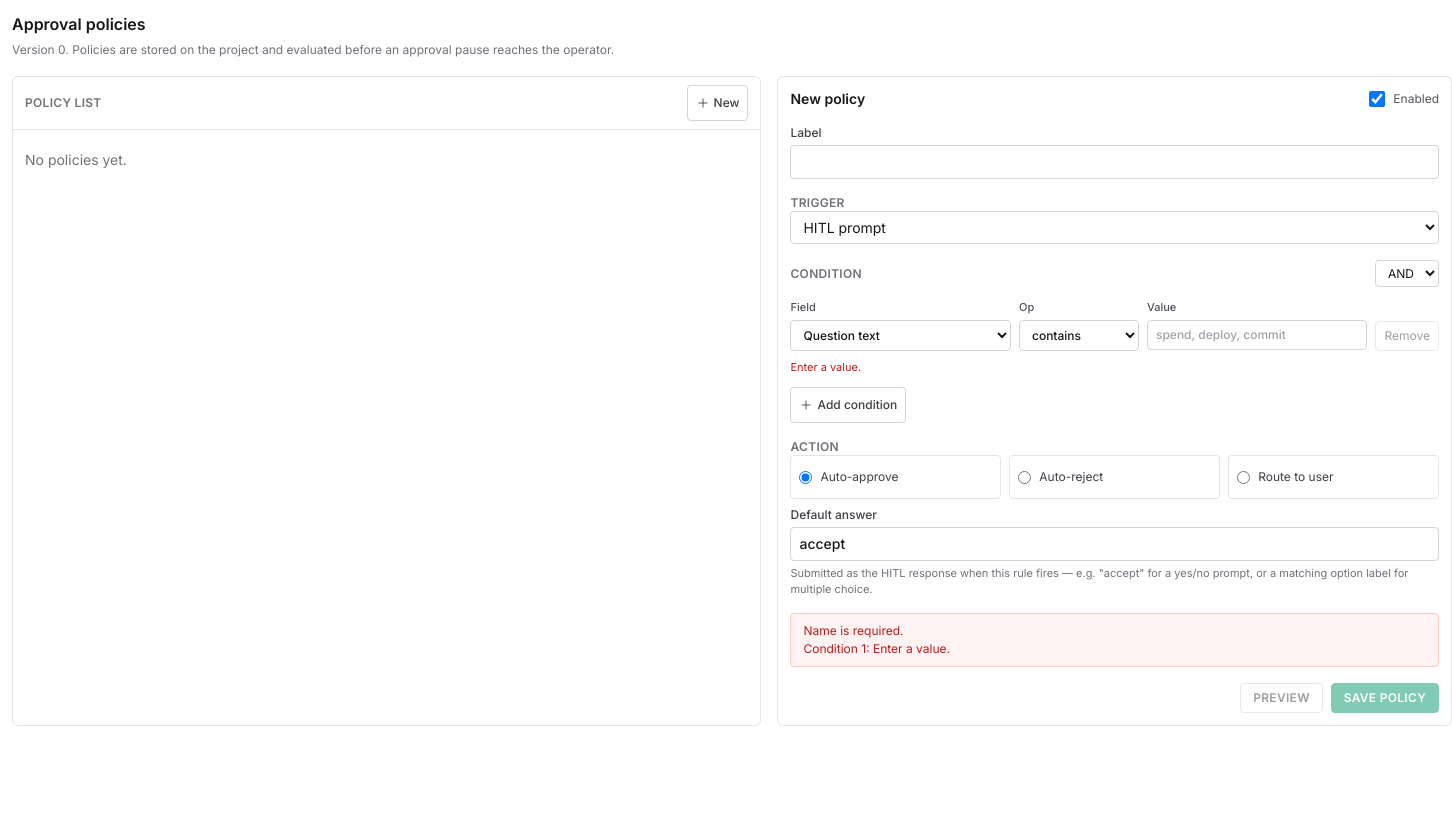
Test: H3 — preview disclaimer › renders the 'can't see live HITL prompts' disclaimer alongside a preview result
# Fill the minimal required fields so Preview is enabled.
Type "preview test" into the field labelled "Label" at (1115, 162), box [790,145,1439,179]
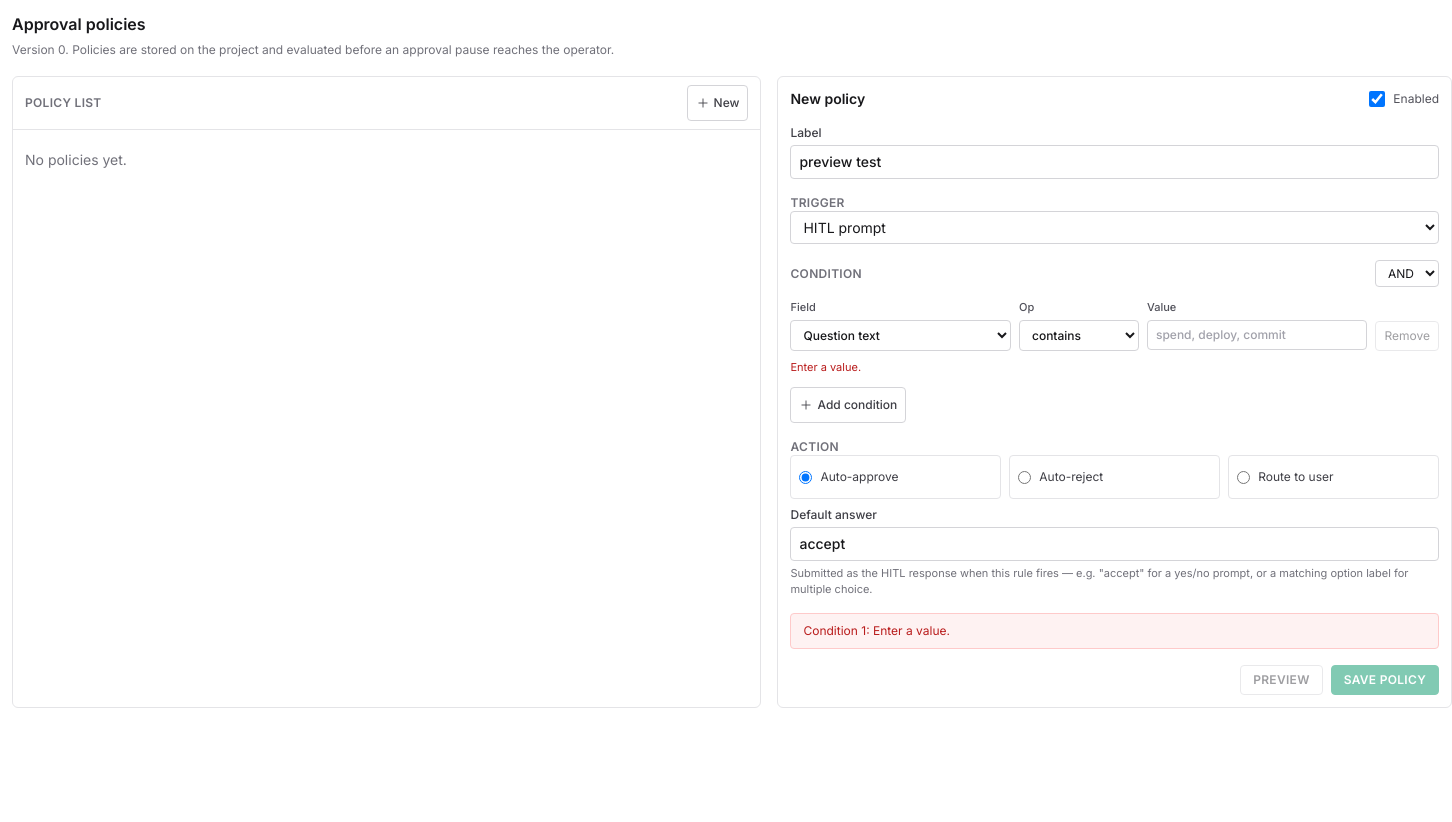
Type "spend" into the field labelled "Value" at (1257, 334), box [1147,320,1368,350]
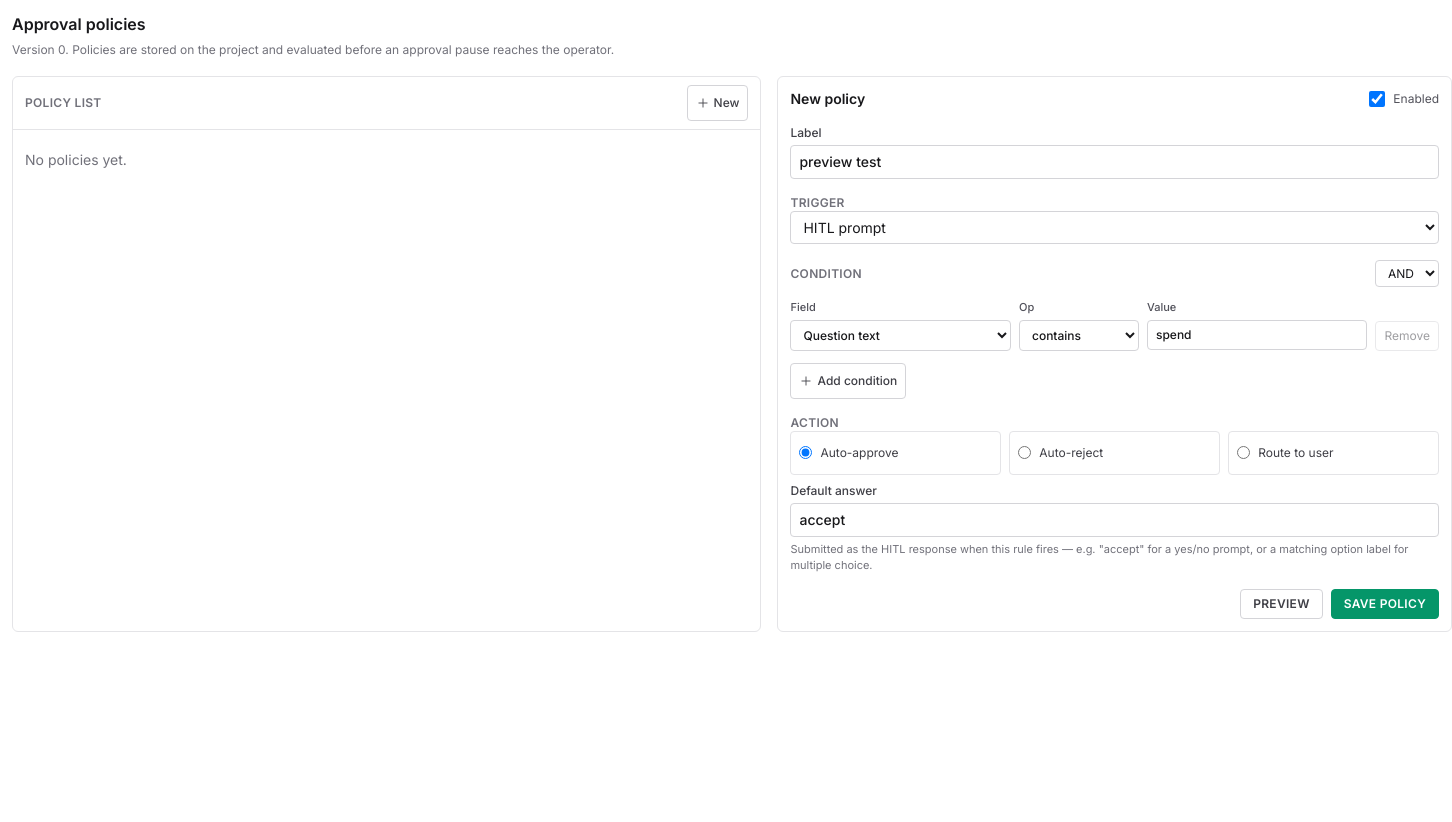
Click the button "Preview" at (1281, 604), box [1240,588,1323,618]
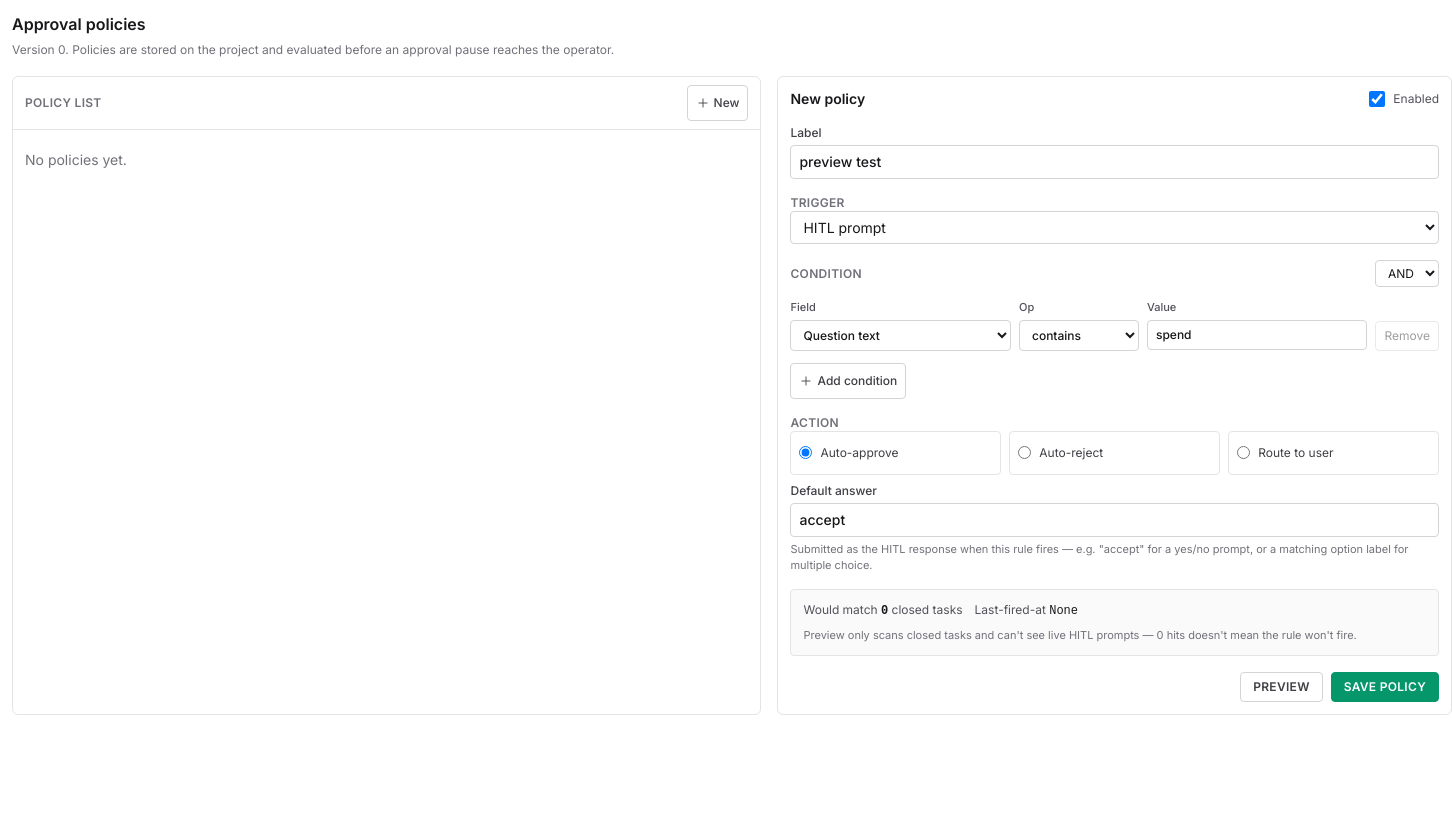
Expected: the text "can't see live HITL prompts" is shown, [804,628,1357,642]
